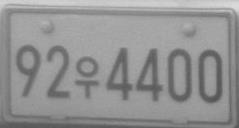0: (197, 48, 223, 104), (167, 47, 192, 103)
2: (45, 43, 71, 97)
4: (134, 46, 164, 103), (104, 46, 133, 100)
9: (14, 43, 42, 98)
우: (73, 55, 99, 98)
